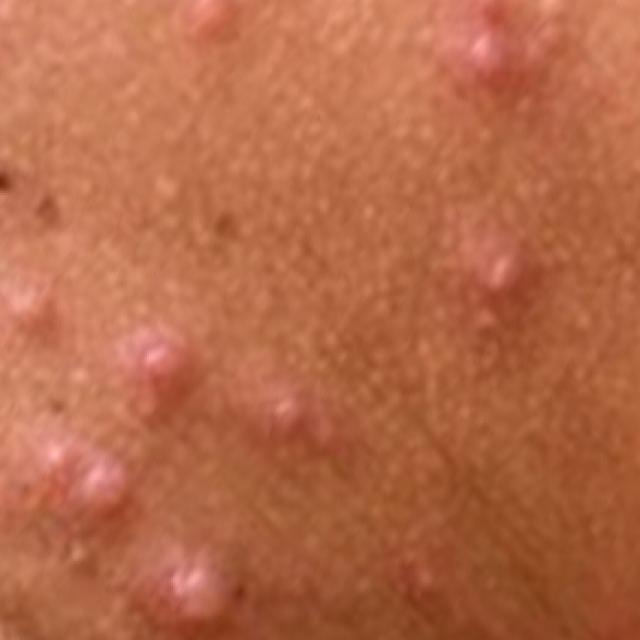acne: (432, 226, 552, 364), (252, 373, 386, 491), (440, 0, 552, 116), (134, 546, 272, 640), (18, 434, 142, 522), (104, 322, 202, 408), (142, 0, 272, 44), (0, 278, 72, 357)
